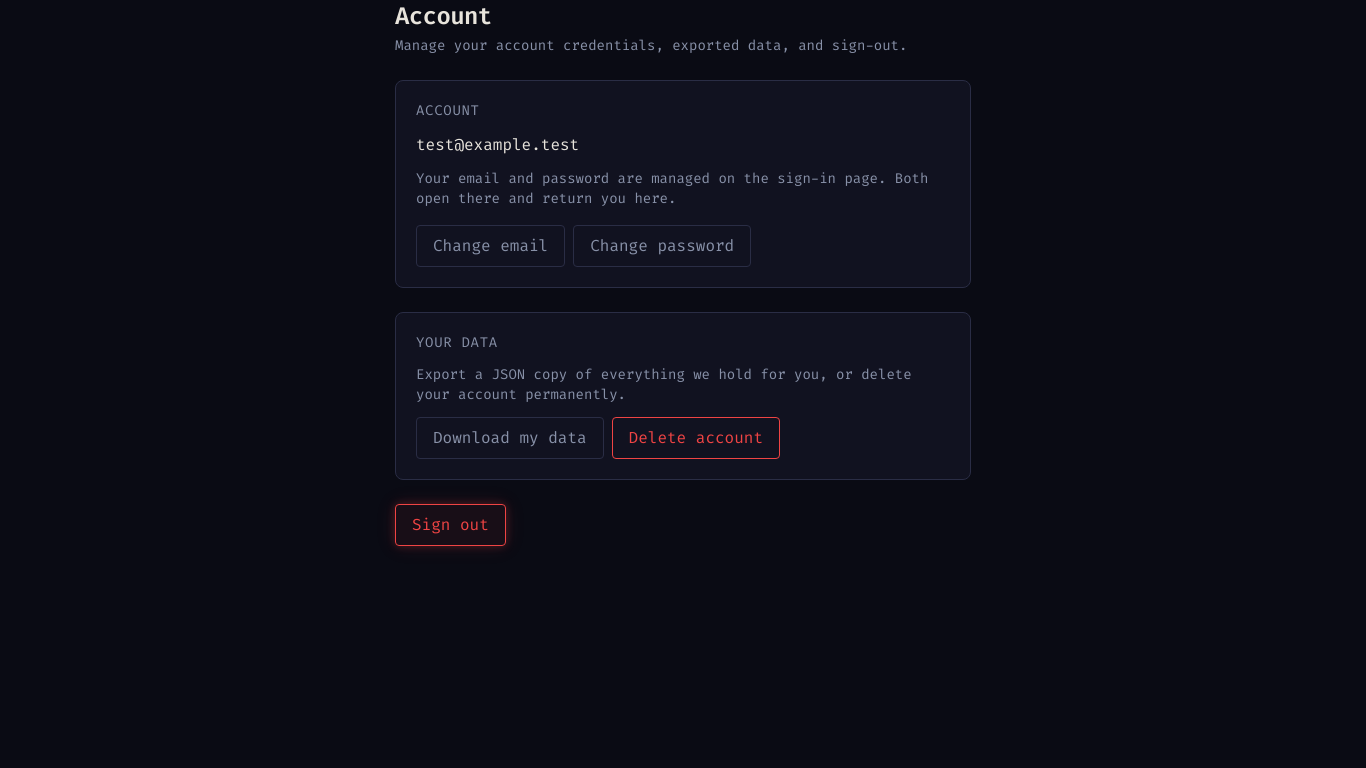
it: Profile page › keeps the user signed in and says so when the sign-out never reaches the server
The image size is (1366, 768).
Expected: the text "test@example.test" is shown, [416,134,579,155]
Click the button "Sign out" at (450, 525), box [395,504,506,546]
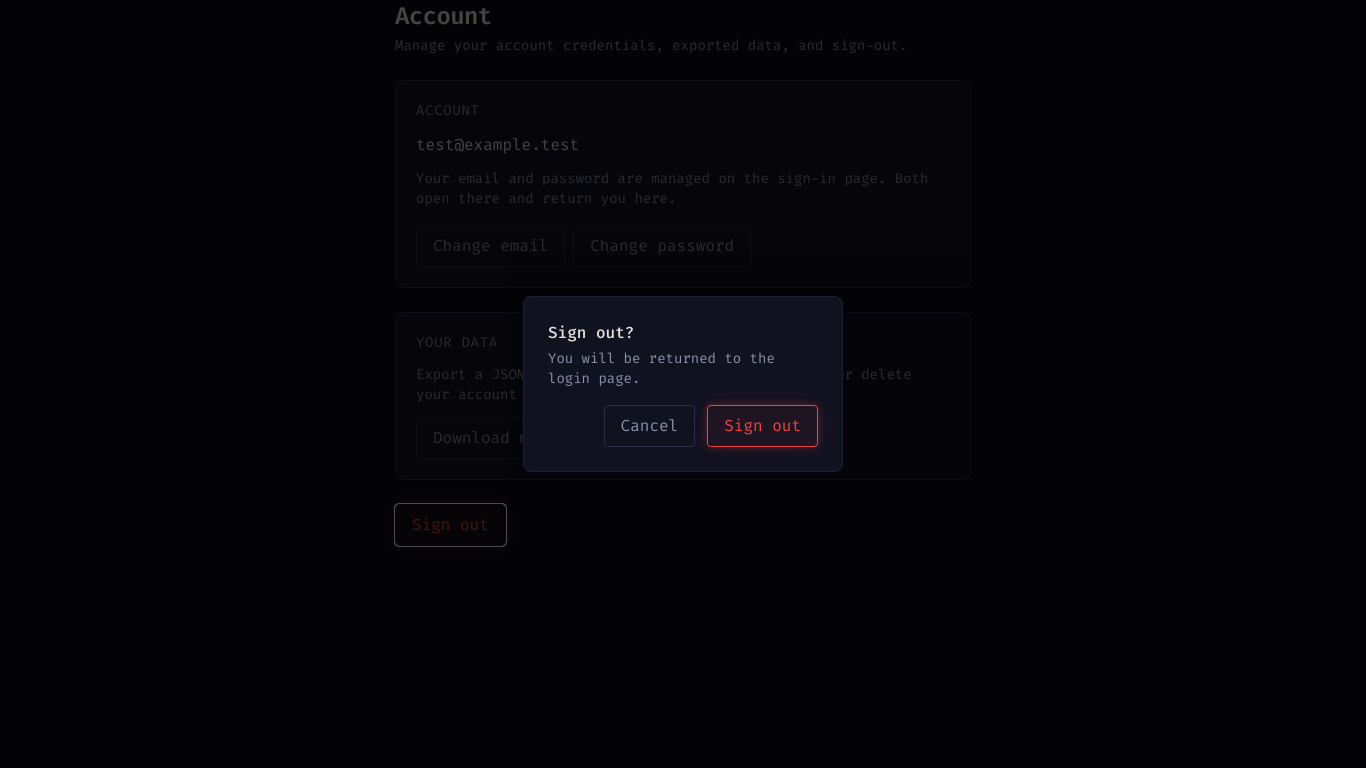
Click the button "Sign out" below "You will be returned to the login page." at (763, 426), box [707,405,818,447]
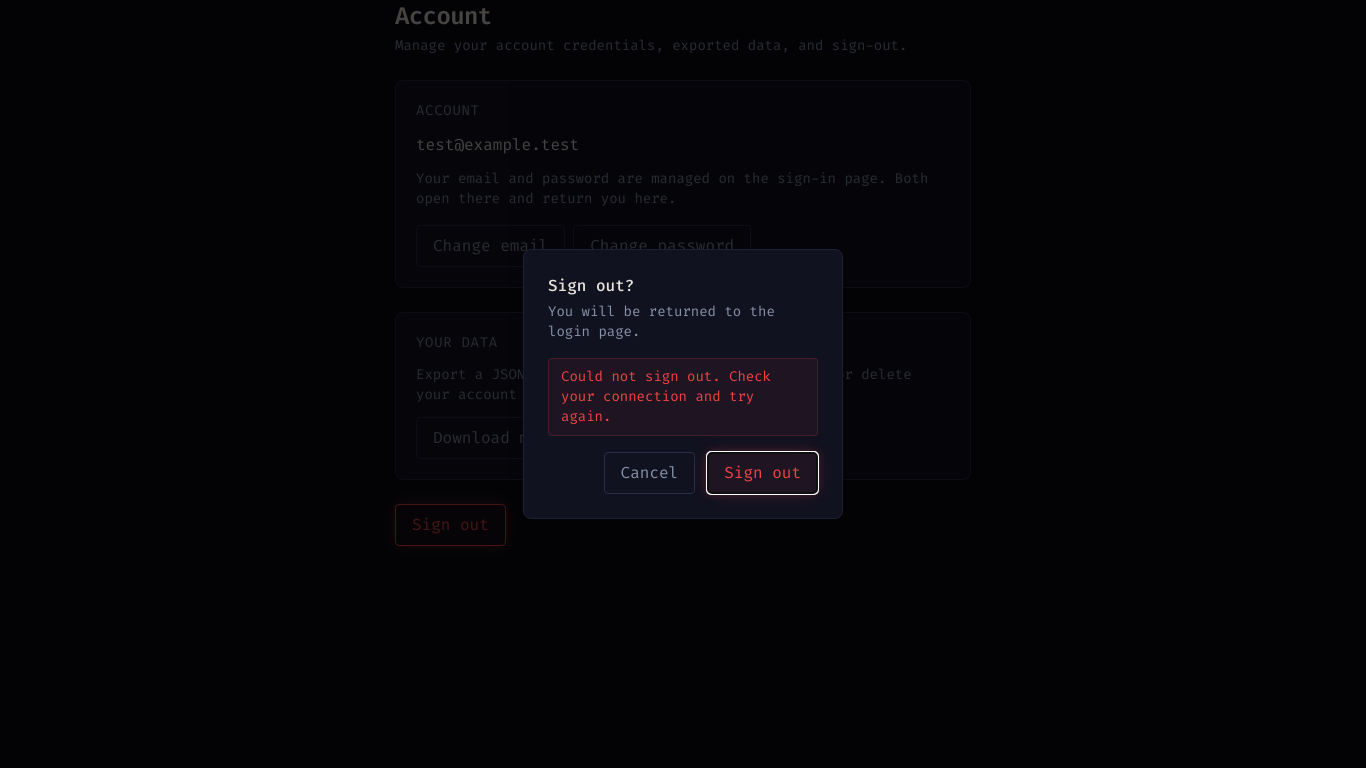
Expected: the text "test@example.test" is shown, [416,134,579,155]
Expected: the text "Could not sign out. Check your connection and try again." is shown, [548,358,818,436]
